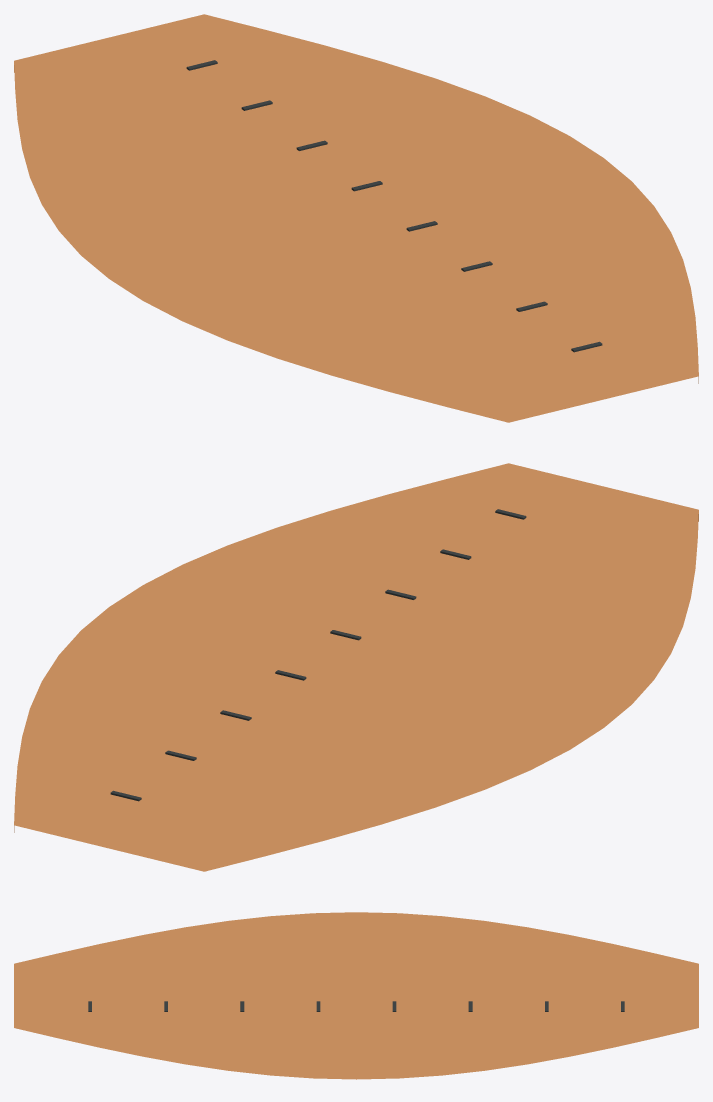
The model's file is spacecraft-parachute-packing-hall-spacecraft-parachute-e5cf0d13__32108.glb.
3 views of the same model, one above another, from view 1: azimuth 30°, elevation 25°; view 2: azimuth 150°, elevation 25°; view 3: azimuth 270°, elevation 25° (orthographic). The views are drawn at different scales.
Parts seen in each view (by area): view 1: spacecraft-parachute-packing-hall-curved-gore-template; view 2: spacecraft-parachute-packing-hall-curved-gore-template; view 3: spacecraft-parachute-packing-hall-curved-gore-template.
Boxes of the visible parts, box(x1,y1,x2,y2) form: spacecraft-parachute-packing-hall-curved-gore-template: box(14, 14, 698, 422); spacecraft-parachute-packing-hall-curved-gore-template: box(14, 463, 698, 871); spacecraft-parachute-packing-hall-curved-gore-template: box(14, 912, 698, 1079).
Bounding box in the file's own units: 0.5201 × 0.016 × 0.9.
